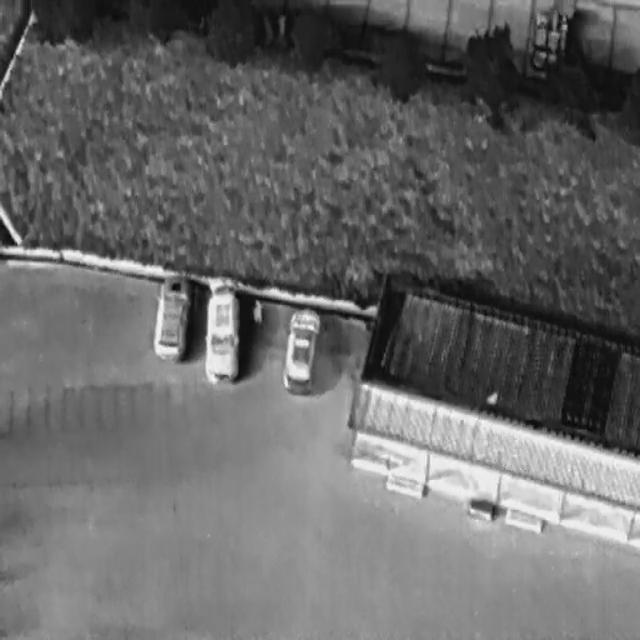Car: (148, 272, 193, 364), (279, 302, 322, 398), (203, 287, 239, 388)
Person: (251, 294, 263, 325)
